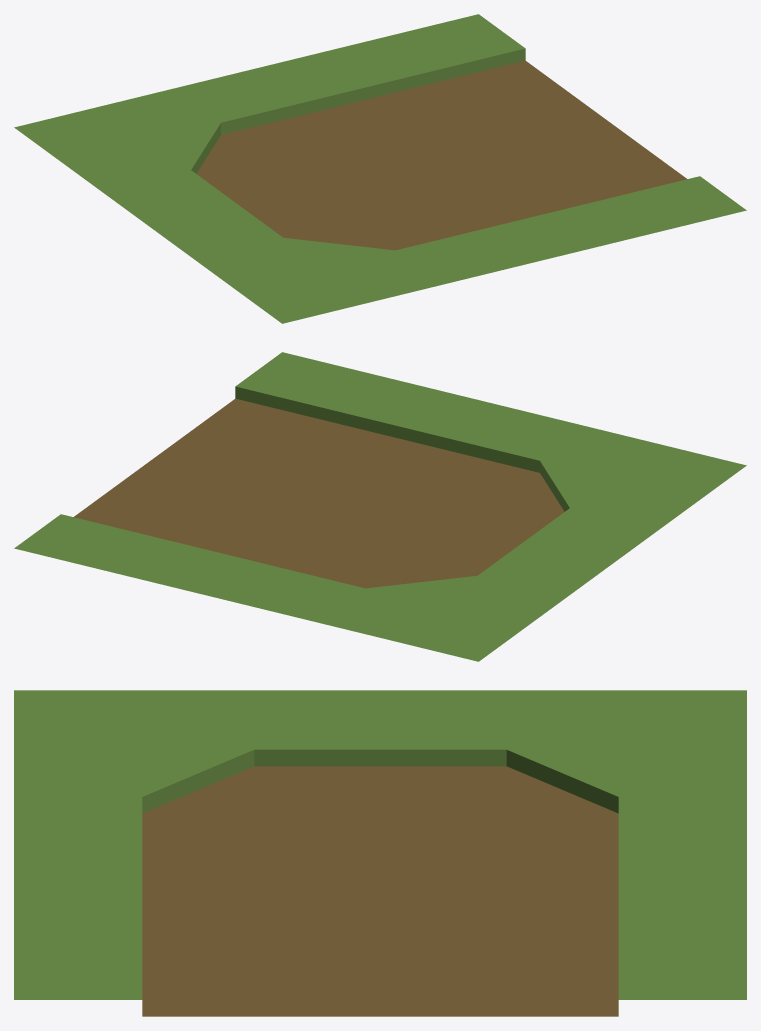
The model's file is road_dead_end.fbx.
3 renders of one model, top to bottom at view 1: azimuth 30°, elevation 25°; view 2: azimuth 150°, elevation 25°; view 3: azimuth 270°, elevation 25°, orthographic. The views are drawn at different scales.
Visible parts, largest first — view 1: Cube.002; view 2: Cube.002; view 3: Cube.002.
Part boxes in pixels (x1,y1,x2,y2): Cube.002: (14,14,746,323); Cube.002: (14,352,746,661); Cube.002: (14,690,746,1016).
Bounding box in the file's own units: 200 × 5 × 200.
